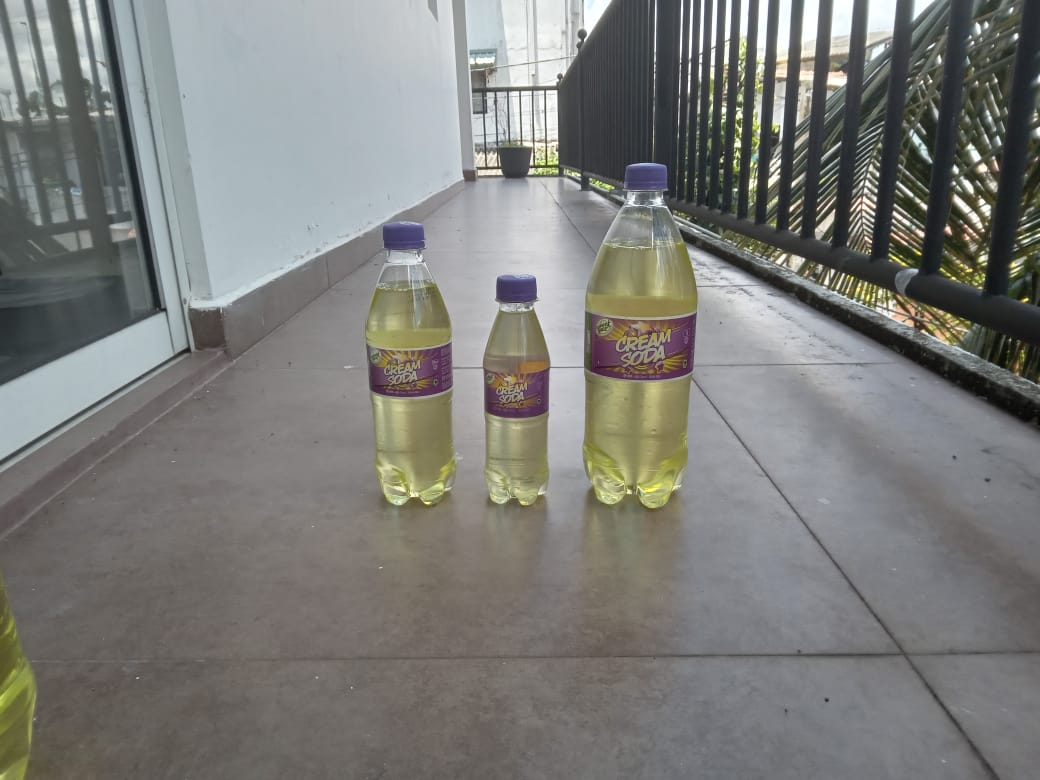M: (584, 166, 698, 513)
S: (367, 221, 459, 508)
Xs: (483, 276, 552, 506)
